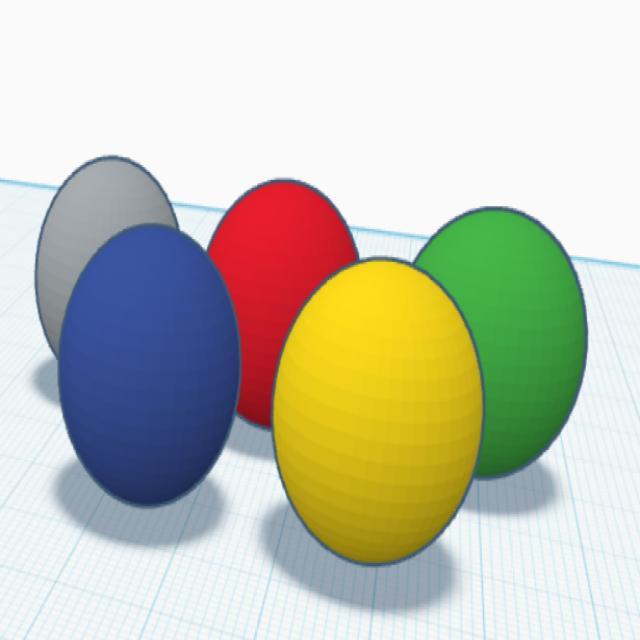sphere: (269, 255, 487, 570), (55, 220, 244, 510)
